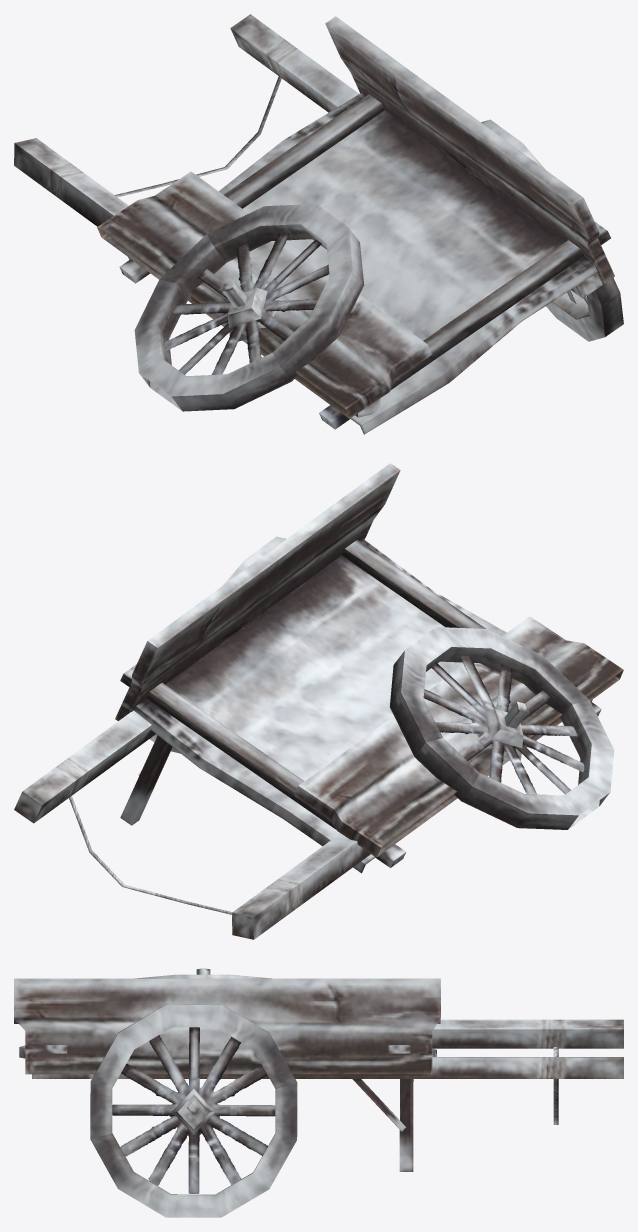
Rendered from Item_01.FBX.
The picture shows the model from 3 angles, top to bottom: view 1: azimuth 30°, elevation 25°; view 2: azimuth 150°, elevation 25°; view 3: azimuth 270°, elevation 25°; orthographic projection. The views are drawn at different scales.
Visible parts, largest first — view 1: item_01; view 2: item_01; view 3: item_01.
Boxes of the visible parts, x1,y1,x2,y2 form: item_01: (14, 14, 623, 434); item_01: (14, 463, 623, 939); item_01: (14, 968, 623, 1217).
Size of the model in its own units: 255 by 131 by 363.
